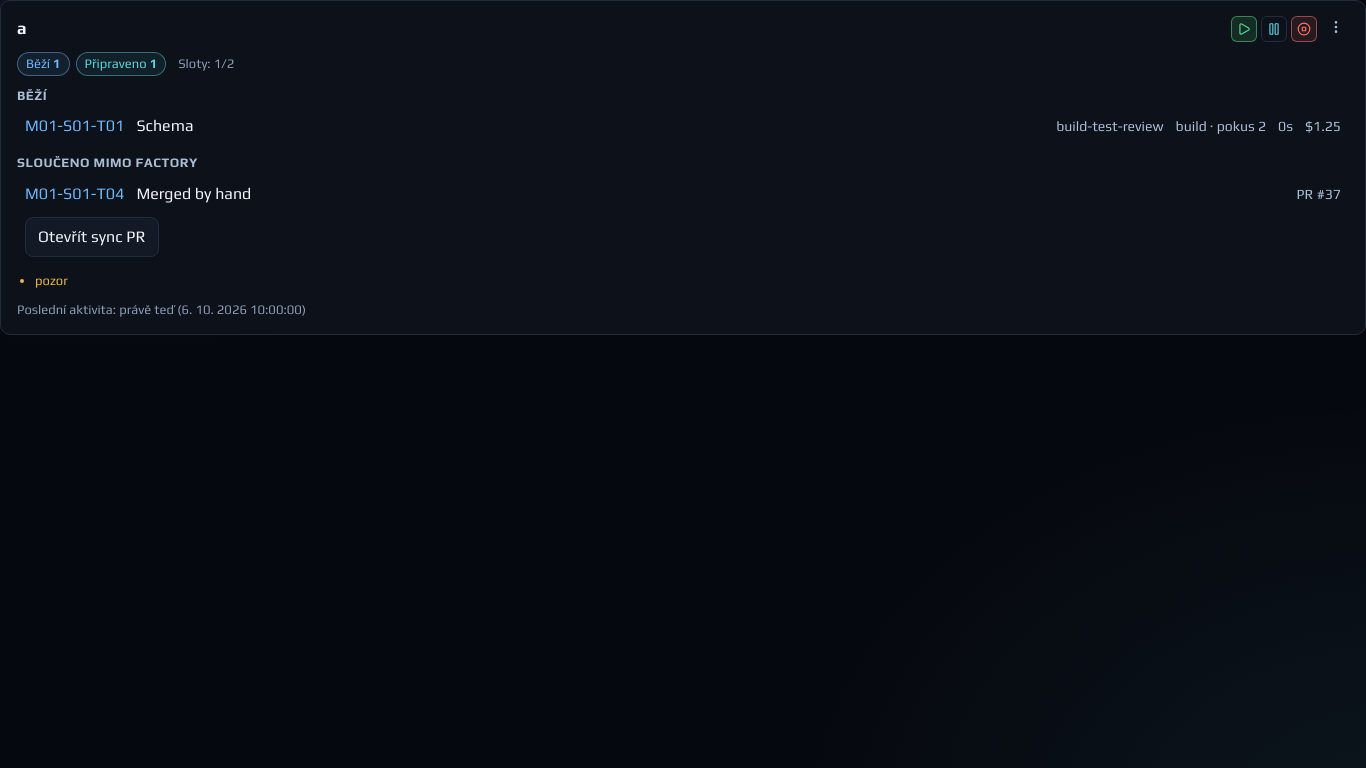
it: RepoCard layout › shows the error of a button under the header
Click the button with test id "factory-pause".
click(1274, 28)  # box [1261,16,1287,42]
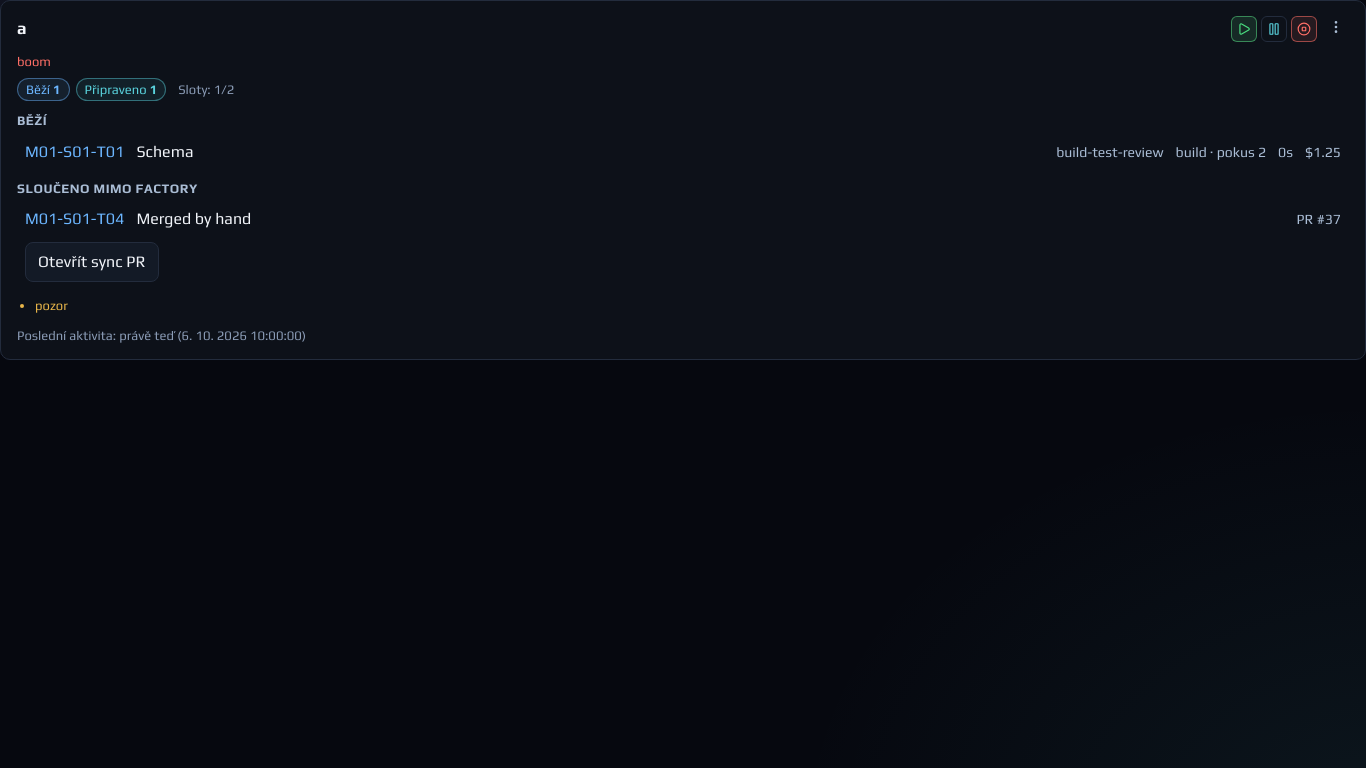
Check: the text with test id "factory-control-error" reads "boom", box [17,54,51,69]
